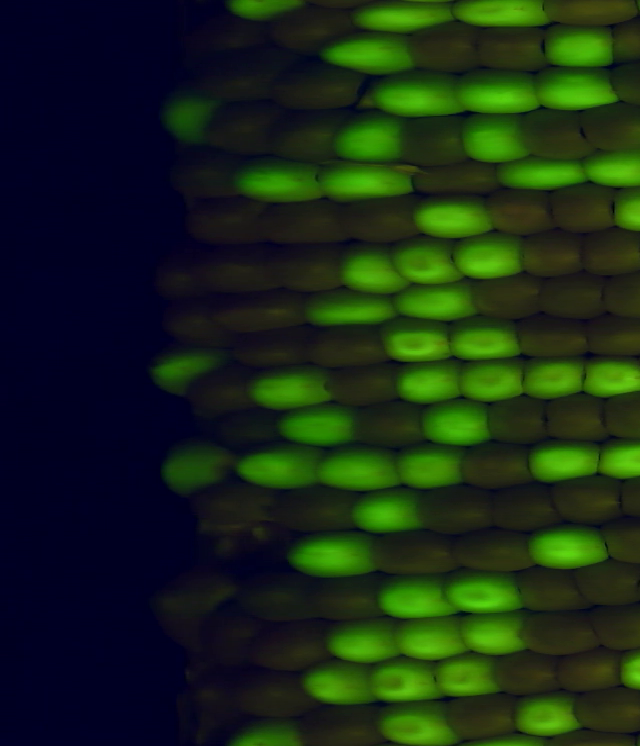fluorescent: (378, 70, 469, 122), (317, 33, 419, 78), (286, 530, 382, 577), (454, 65, 542, 116), (320, 617, 406, 668), (297, 656, 378, 710), (241, 155, 324, 206), (229, 442, 323, 487), (156, 442, 234, 495), (274, 402, 363, 448), (334, 112, 409, 166), (304, 286, 398, 328), (314, 162, 422, 198), (531, 64, 619, 108), (379, 315, 456, 365), (529, 525, 612, 571), (417, 398, 497, 445), (381, 572, 456, 622), (350, 1, 458, 35), (447, 567, 523, 615), (452, 233, 528, 281), (317, 447, 403, 489), (458, 113, 533, 161), (148, 347, 223, 395), (449, 313, 523, 361), (254, 366, 338, 408), (392, 280, 480, 320), (396, 615, 470, 662), (530, 439, 602, 487), (546, 23, 621, 69), (367, 660, 442, 705), (373, 703, 457, 743), (430, 654, 506, 697), (513, 691, 584, 737), (391, 238, 461, 284), (497, 155, 586, 191), (158, 90, 217, 144), (416, 200, 502, 237), (463, 609, 529, 657), (344, 244, 406, 294), (456, 357, 528, 400), (393, 450, 466, 490), (448, 1, 551, 28), (520, 359, 589, 399), (351, 492, 423, 530), (395, 361, 461, 401), (582, 353, 640, 398), (226, 712, 302, 746), (587, 150, 640, 190), (594, 435, 640, 480), (223, 1, 306, 19)
nonfluorescent: (146, 575, 234, 644), (272, 54, 368, 107), (203, 98, 280, 159), (255, 197, 345, 249), (413, 481, 496, 537), (234, 318, 321, 371), (272, 101, 344, 165), (474, 21, 556, 75), (185, 477, 278, 524), (236, 569, 320, 621), (518, 108, 597, 163), (274, 481, 357, 533), (408, 18, 482, 75), (253, 618, 334, 670), (368, 528, 459, 574), (269, 9, 355, 57), (180, 198, 264, 247), (550, 475, 627, 528), (518, 608, 602, 656), (341, 195, 422, 244), (201, 55, 282, 104), (239, 669, 323, 716), (271, 239, 348, 290), (450, 525, 531, 573), (458, 441, 537, 490), (308, 323, 393, 368), (311, 573, 392, 620), (168, 148, 240, 200), (516, 312, 593, 360), (485, 188, 556, 239), (211, 408, 290, 453), (202, 597, 255, 664), (201, 244, 272, 294), (400, 114, 468, 166), (546, 393, 613, 445), (160, 299, 227, 351), (535, 270, 606, 319), (304, 704, 386, 746), (514, 565, 588, 611), (445, 694, 519, 740), (550, 183, 619, 232), (217, 292, 310, 328), (413, 157, 503, 194), (486, 396, 552, 446), (492, 479, 556, 530), (522, 227, 584, 279), (471, 275, 542, 319), (189, 371, 258, 416), (579, 99, 640, 149), (573, 562, 640, 607), (573, 688, 640, 733), (553, 649, 626, 690), (326, 364, 402, 403), (153, 250, 210, 302), (359, 398, 423, 444), (580, 227, 640, 275), (494, 653, 560, 696), (196, 11, 263, 53), (190, 670, 245, 720), (548, 1, 640, 28), (583, 313, 640, 356), (588, 604, 640, 651), (600, 516, 640, 568), (600, 269, 640, 319), (549, 725, 640, 746), (603, 390, 640, 441), (608, 59, 640, 107), (606, 19, 640, 64), (314, 1, 371, 10)
